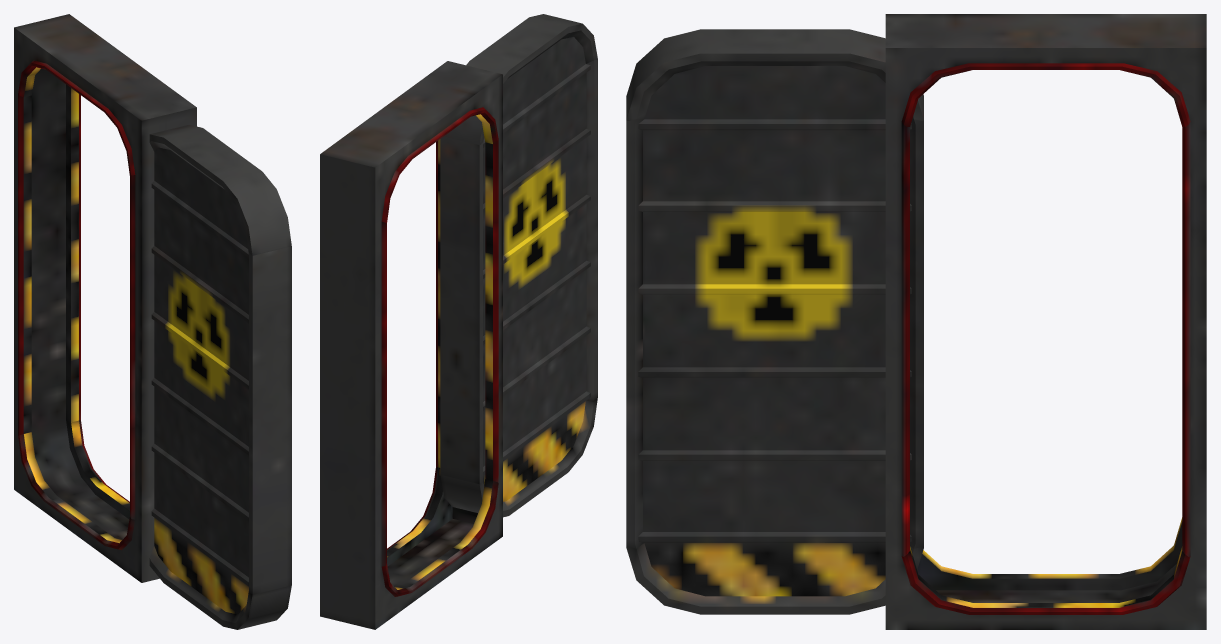
File: sliding_gate_door_21.obj
3 renders of one model, left to right at view 1: azimuth 30°, elevation 25°; view 2: azimuth 150°, elevation 25°; view 3: azimuth 270°, elevation 25°, orthographic. The views are drawn at different scales.
Parts seen in each view (by area): view 1: door, frame; view 2: door, frame; view 3: door, frame.
Part boxes in pixels (<box>): door: <box>149,125,291,629</box>; frame: <box>14,14,196,582</box>; door: <box>440,14,597,517</box>; frame: <box>320,61,502,629</box>; door: <box>626,29,923,614</box>; frame: <box>885,14,1206,629</box>.
Size of the model in its own units: 0.2786 by 2 by 1.81.
